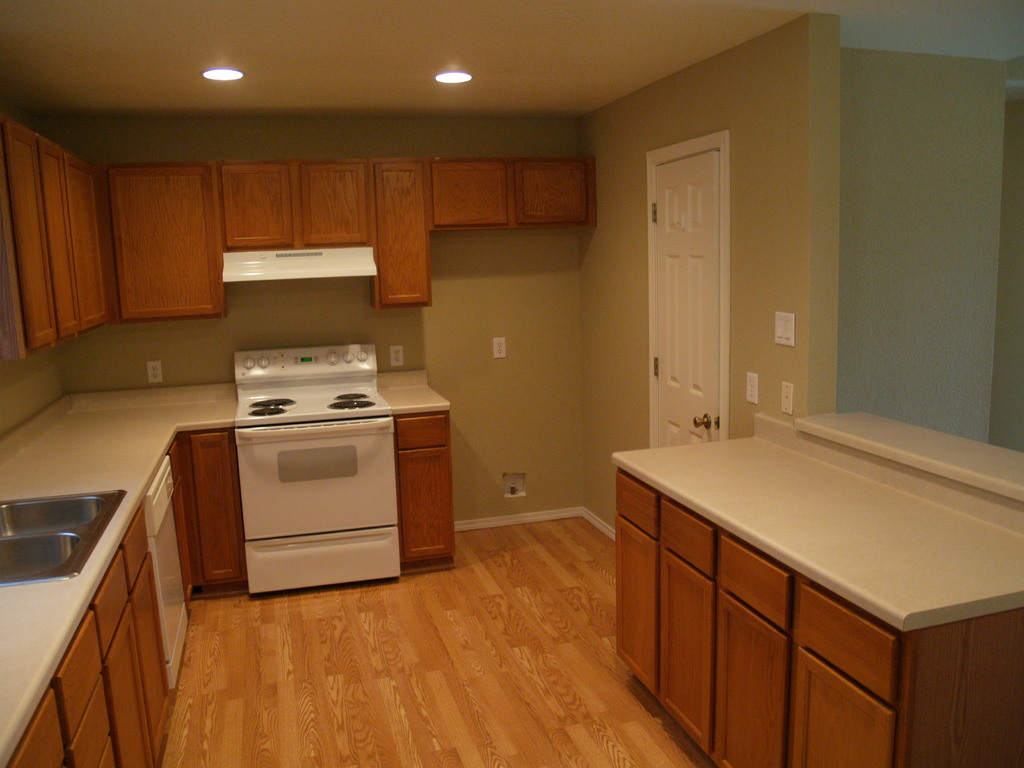cabinet door: (110, 172, 216, 310), (722, 602, 781, 758), (7, 140, 54, 333), (802, 674, 894, 768), (663, 572, 721, 721), (375, 167, 430, 306), (62, 151, 100, 321), (296, 164, 374, 244), (217, 165, 295, 244), (190, 442, 234, 580), (36, 148, 72, 314), (614, 525, 657, 660), (401, 451, 449, 560), (430, 164, 510, 229), (106, 643, 150, 758), (514, 158, 591, 222), (137, 583, 172, 713), (78, 723, 118, 768)
door: (651, 165, 717, 435)
handle: (262, 528, 392, 548), (242, 422, 388, 439), (686, 407, 708, 432)
